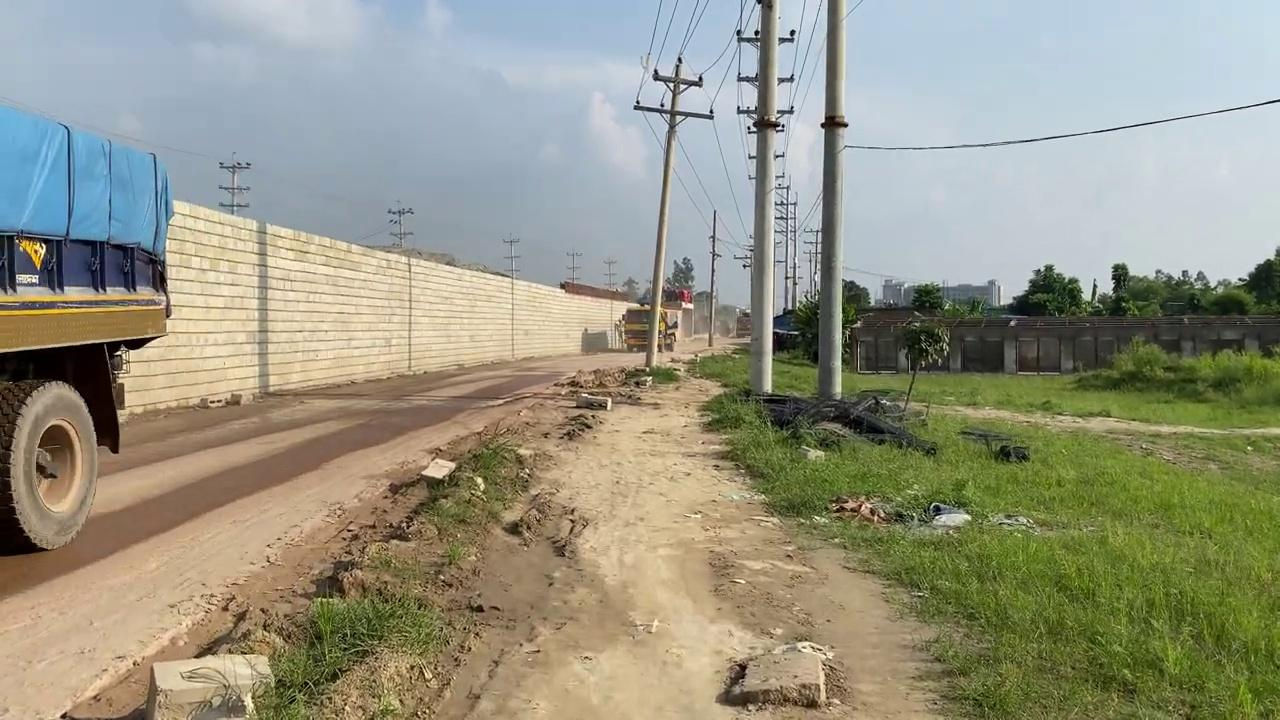Fence: (848, 312, 1278, 375)
Obstacle: (715, 639, 850, 712)
Pole: (632, 54, 714, 370), (747, 0, 779, 395), (816, 0, 847, 401)
Rickshaw: (0, 333, 739, 718), (430, 354, 961, 718)
Tree: (0, 97, 174, 554), (620, 305, 677, 353)
Upstairs: (114, 197, 642, 413)
